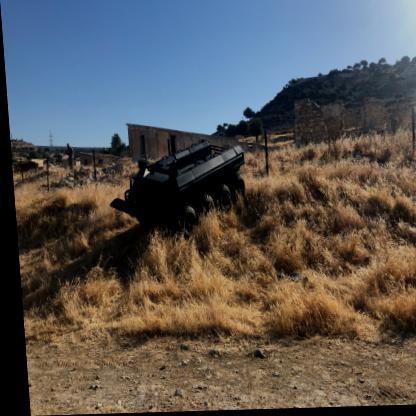UGV: (103, 139, 248, 241)
